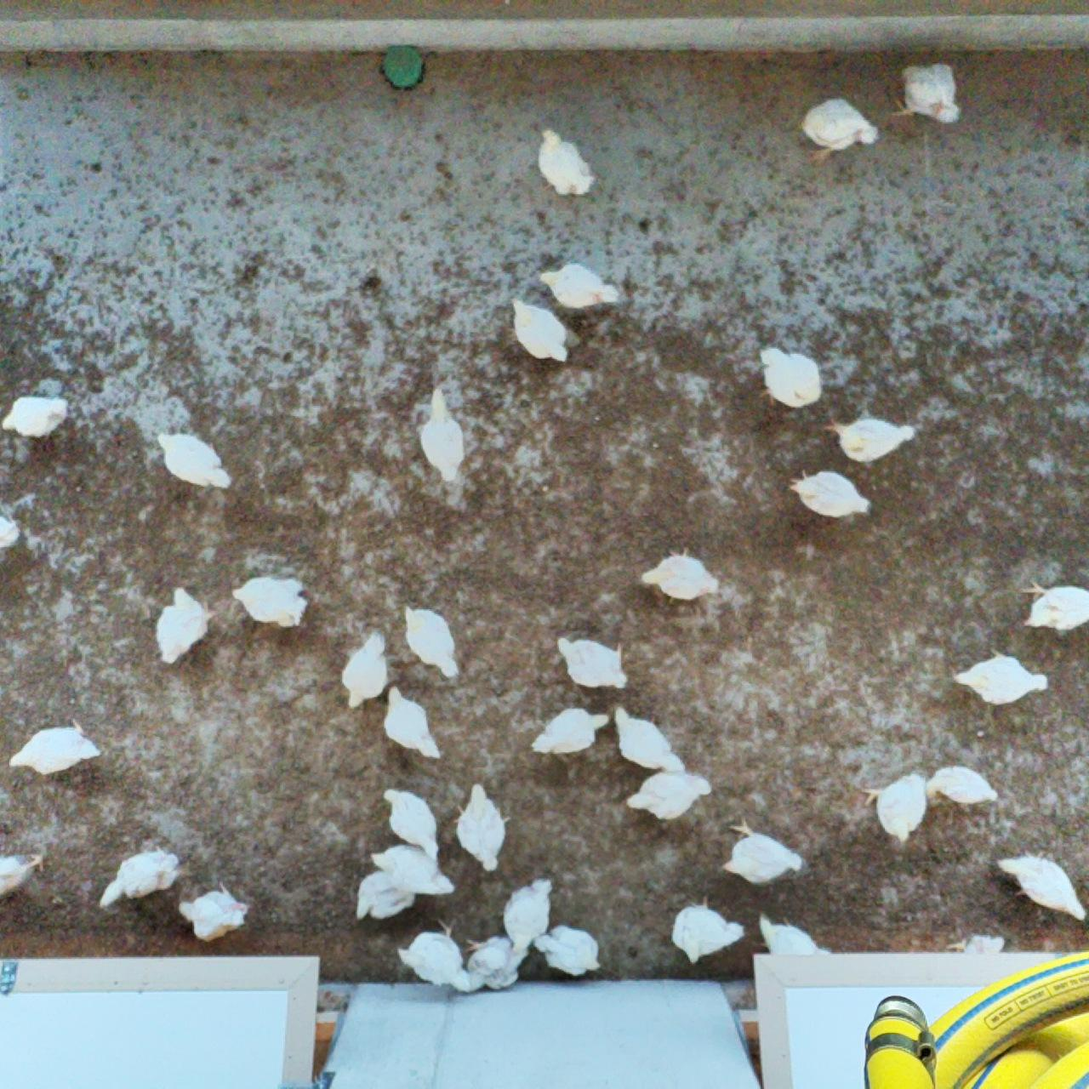chicken: (996, 851, 1089, 928), (396, 915, 477, 994), (98, 841, 180, 914), (8, 715, 103, 776), (718, 820, 804, 887), (607, 704, 687, 775), (952, 648, 1049, 706), (151, 428, 236, 491), (799, 97, 880, 162), (153, 586, 216, 667), (402, 600, 464, 682), (369, 840, 456, 898), (621, 768, 713, 822), (453, 783, 507, 874), (671, 897, 745, 963), (862, 772, 928, 845), (175, 879, 250, 942), (418, 387, 467, 483), (641, 544, 722, 602), (552, 634, 633, 692), (383, 682, 442, 761), (785, 467, 872, 520), (507, 295, 572, 365), (822, 415, 916, 463), (530, 704, 613, 758), (889, 60, 960, 123), (502, 878, 552, 967), (456, 934, 530, 993), (232, 571, 308, 628), (380, 785, 438, 859), (756, 345, 824, 408), (754, 911, 833, 965), (535, 127, 595, 196), (538, 262, 623, 309), (340, 630, 389, 709), (1020, 578, 1089, 634), (923, 764, 1000, 812), (533, 924, 603, 976), (354, 866, 418, 921), (0, 393, 70, 441), (0, 843, 43, 902), (0, 513, 21, 553)
